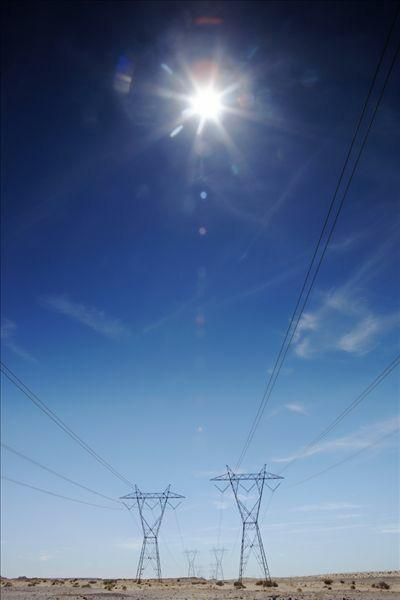power_tower: (205, 462, 295, 585), (122, 485, 187, 580)
